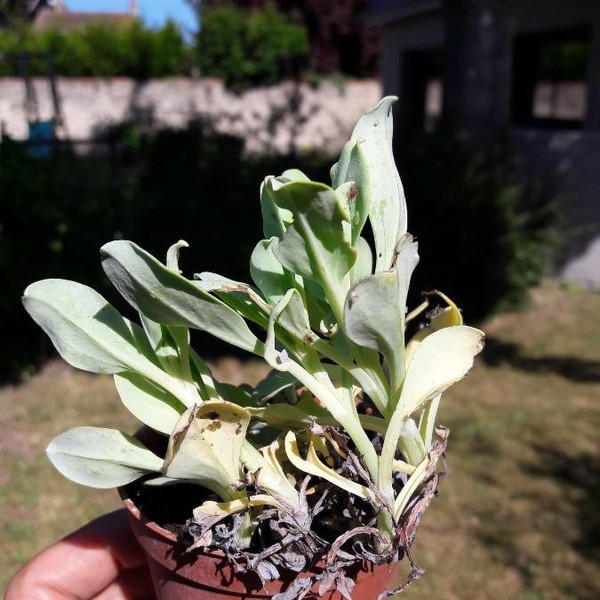obstacle: (33, 89, 468, 580)
